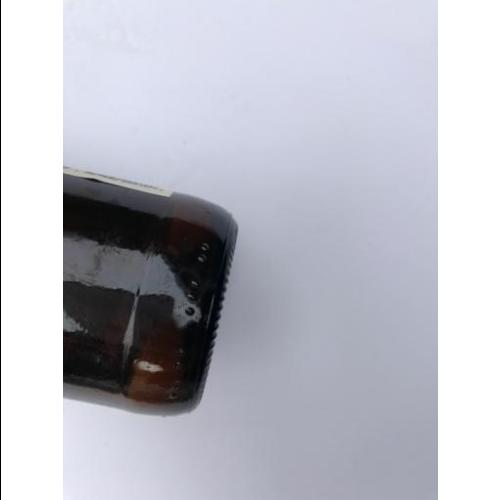glass: (63, 161, 237, 418)
